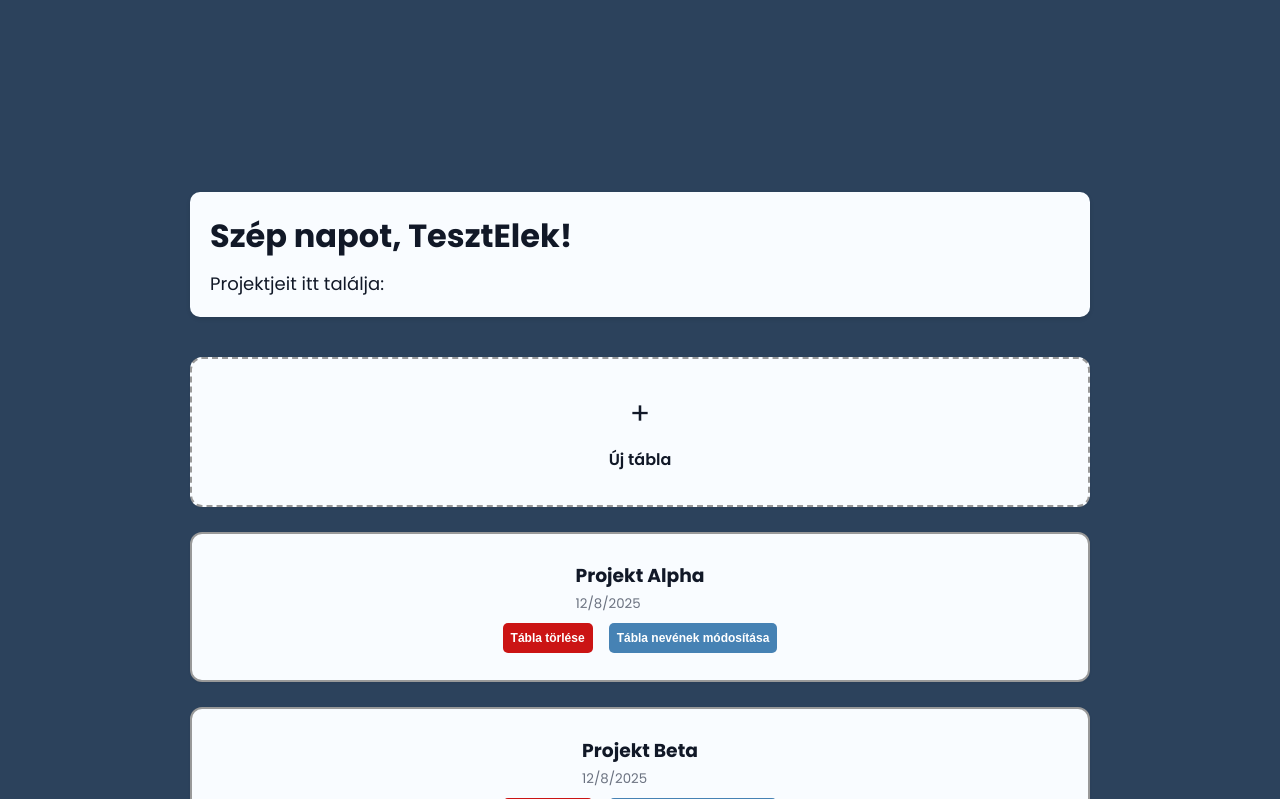
Test: DashboardPage Component › Tábla törlése
This screenshot has width=1280, height=799.
Click the button "Tábla törlése" below "Projekt Alpha" at coordinates (548, 638), box left=503, top=623, right=593, bottom=653
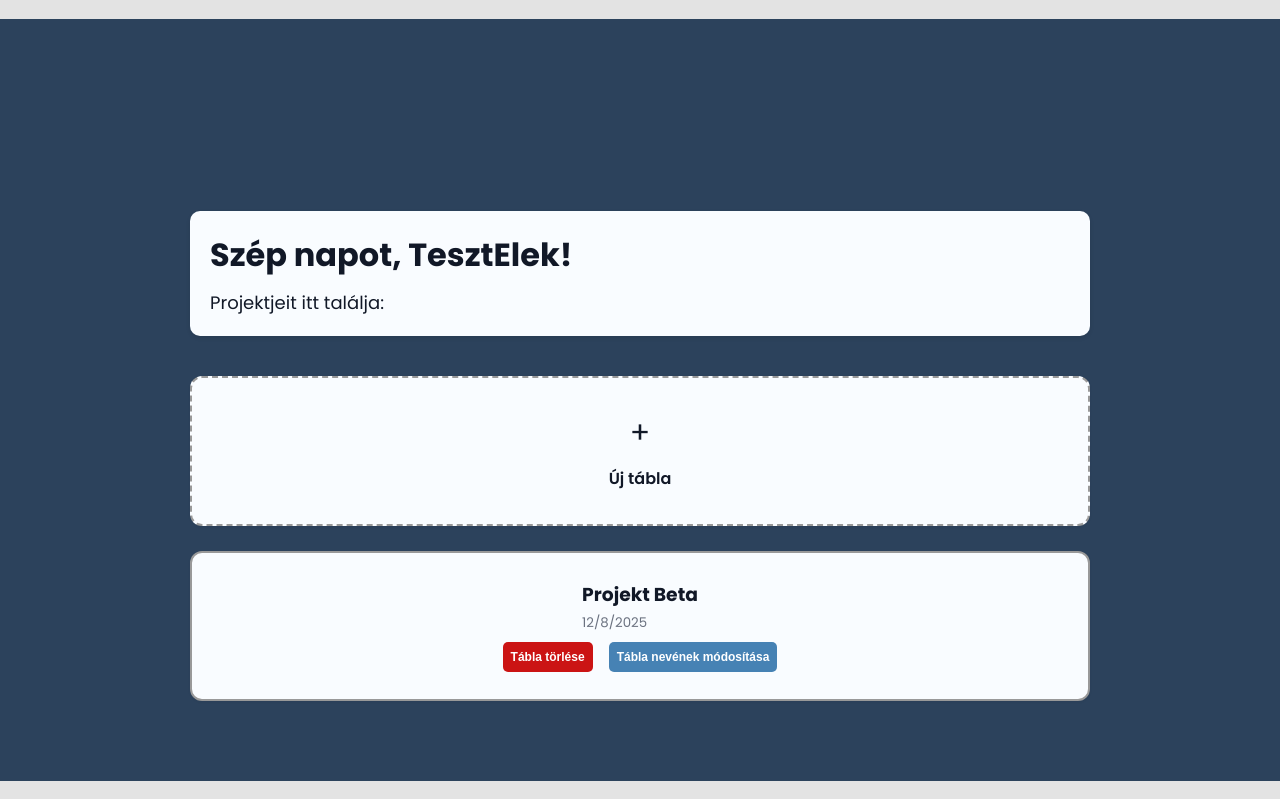
Expected: the heading "Projekt Alpha" is gone
